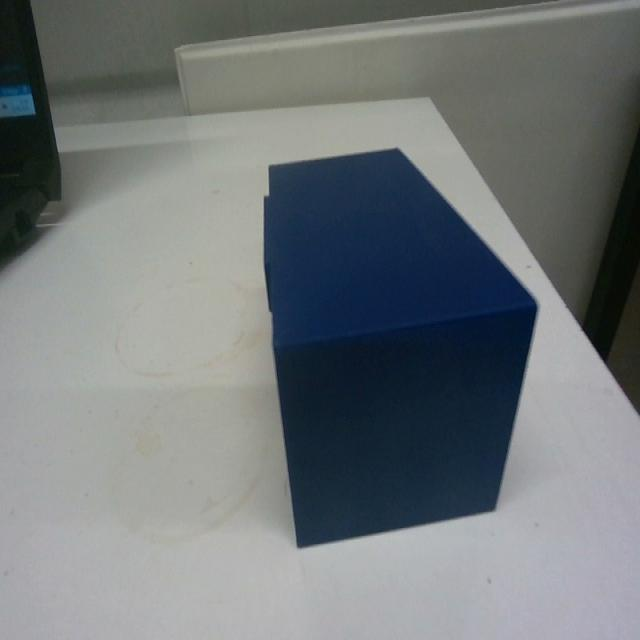Blue Cuboid: (258, 143, 540, 549)
